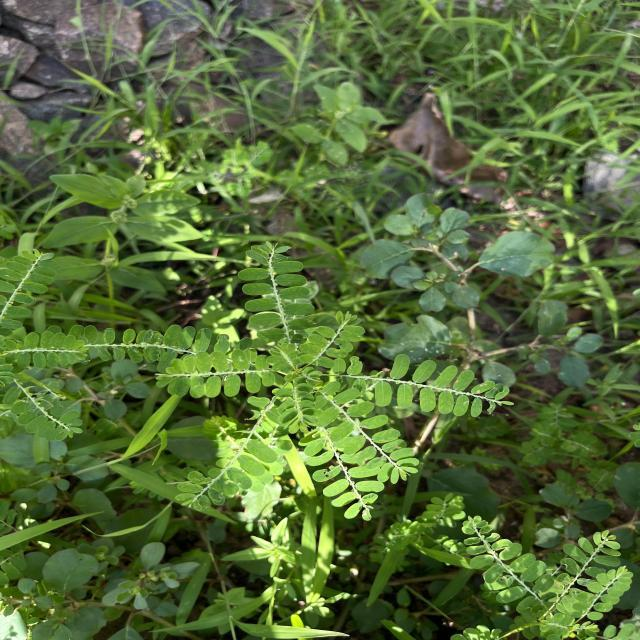Phyllanthus niruri: (306, 378, 420, 484), (364, 352, 516, 420), (456, 512, 551, 609), (174, 428, 278, 512), (236, 237, 312, 342), (146, 348, 272, 400), (292, 312, 366, 372), (570, 566, 636, 621)
